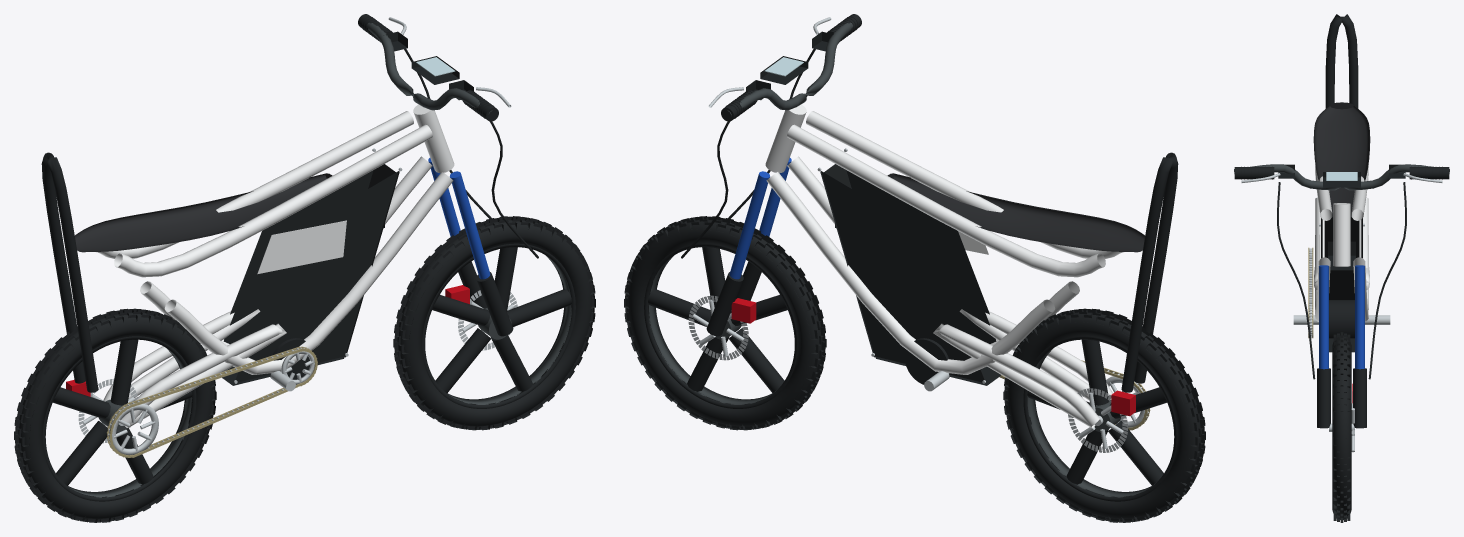
File: arctic-leopard-e-20y.glb
The picture shows the model from 3 angles, left to right: view 1: azimuth 30°, elevation 25°; view 2: azimuth 150°, elevation 25°; view 3: azimuth 270°, elevation 25°; orthographic projection. The views are drawn at different scales.
Visible parts, largest first — view 1: Chassis | white, BatteryMount | black, FrontWheel | rubber, RearWheel | rubber, FrontWheel | black, RearWheel | black, Bodywork | seat, RearSuspension | white, Bodywork | black, Bodywork | white, Drive | steel, Drive | chain (+7 smaller); view 2: BatteryMount | black, Chassis | white, FrontWheel | rubber, RearWheel | rubber, FrontWheel | black, Bodywork | seat, RearWheel | black, RearSuspension | white, Bodywork | black, Fork | blue, Cockpit | graphite, Fork | black (+8 smaller); view 3: Bodywork | seat, FrontWheel | rubber, Chassis | white, Fork | blue, Cockpit | rubber, Bodywork | black, Fork | black, BatteryMount | black, Cockpit | graphite, Cockpit | black, MotorMount | black, Drive | steel (+4 smaller).
Boxes of the visible parts, x1,y1,x2,y2 form: Chassis | white: (96, 104, 454, 374); BatteryMount | black: (222, 164, 399, 385); FrontWheel | rubber: (393, 216, 595, 430); RearWheel | rubber: (14, 308, 216, 522); FrontWheel | black: (422, 243, 575, 408); RearWheel | black: (42, 336, 196, 501); Bodywork | seat: (75, 173, 332, 252); RearSuspension | white: (103, 309, 286, 427); Bodywork | black: (41, 152, 98, 392); Bodywork | white: (257, 220, 346, 274); Drive | steel: (107, 347, 314, 455); Drive | chain: (106, 346, 317, 457); BatteryMount | black: (820, 164, 1001, 385); Chassis | white: (765, 104, 1123, 374); FrontWheel | rubber: (624, 216, 826, 430); RearWheel | rubber: (1003, 308, 1205, 522); FrontWheel | black: (644, 243, 797, 408); Bodywork | seat: (887, 173, 1144, 252); RearWheel | black: (1023, 336, 1177, 501); RearSuspension | white: (933, 309, 1112, 427); Bodywork | black: (1121, 152, 1178, 392); Fork | blue: (729, 158, 791, 279); Cockpit | graphite: (727, 22, 853, 116); Fork | black: (706, 261, 761, 336); Bodywork | seat: (1313, 102, 1370, 212); FrontWheel | rubber: (1332, 332, 1351, 522); Chassis | white: (1315, 165, 1368, 321); Fork | blue: (1319, 265, 1364, 369); Cockpit | rubber: (1234, 167, 1449, 379); Bodywork | black: (1325, 14, 1358, 217); Fork | black: (1317, 368, 1366, 428); BatteryMount | black: (1321, 217, 1362, 352); Cockpit | graphite: (1234, 164, 1449, 190); Cockpit | black: (1241, 164, 1442, 187); MotorMount | black: (1329, 300, 1354, 338); Drive | steel: (1293, 248, 1390, 337).
Bounding box in the file's own units: 1.61 × 1.02 × 0.6236.
